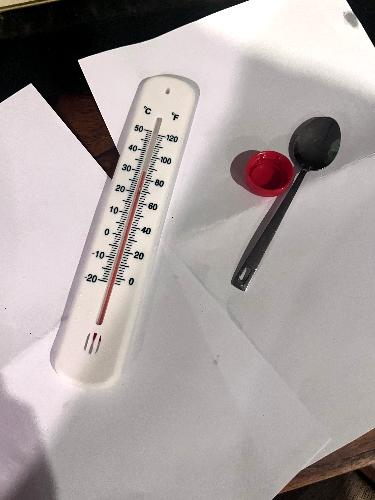thermo: (47, 69, 199, 393)
